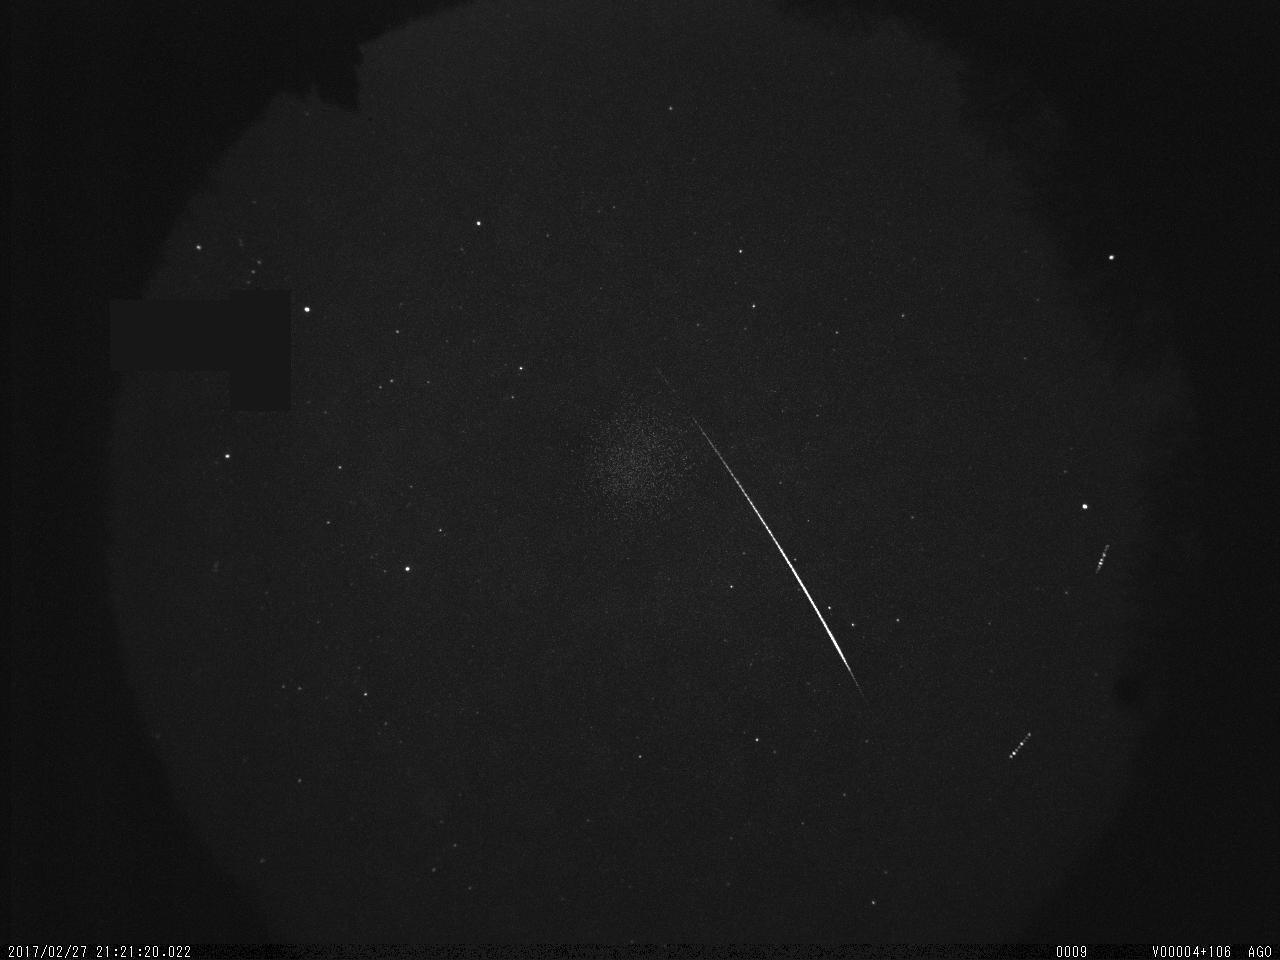Meteor: (643, 362, 865, 696)
